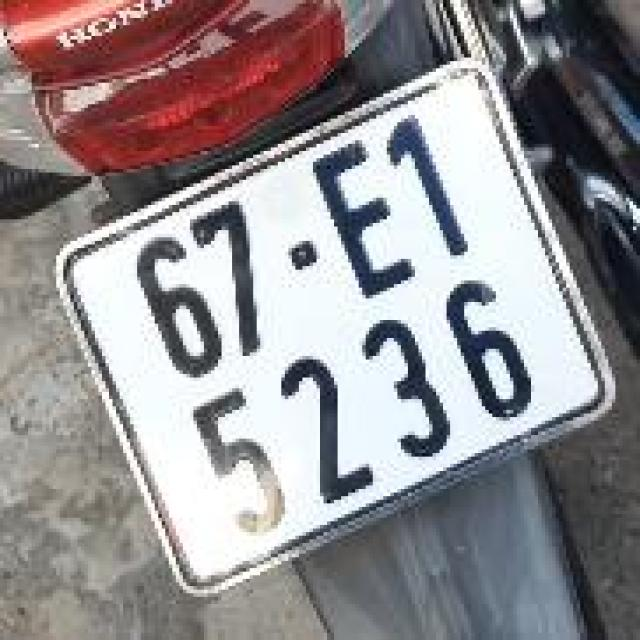1: (370, 96, 482, 268)
2: (264, 339, 385, 512)
3: (345, 306, 473, 479)
5: (185, 372, 309, 565)
6: (426, 265, 556, 439), (124, 221, 238, 384)
7: (174, 188, 278, 361)
E: (282, 130, 436, 323)
